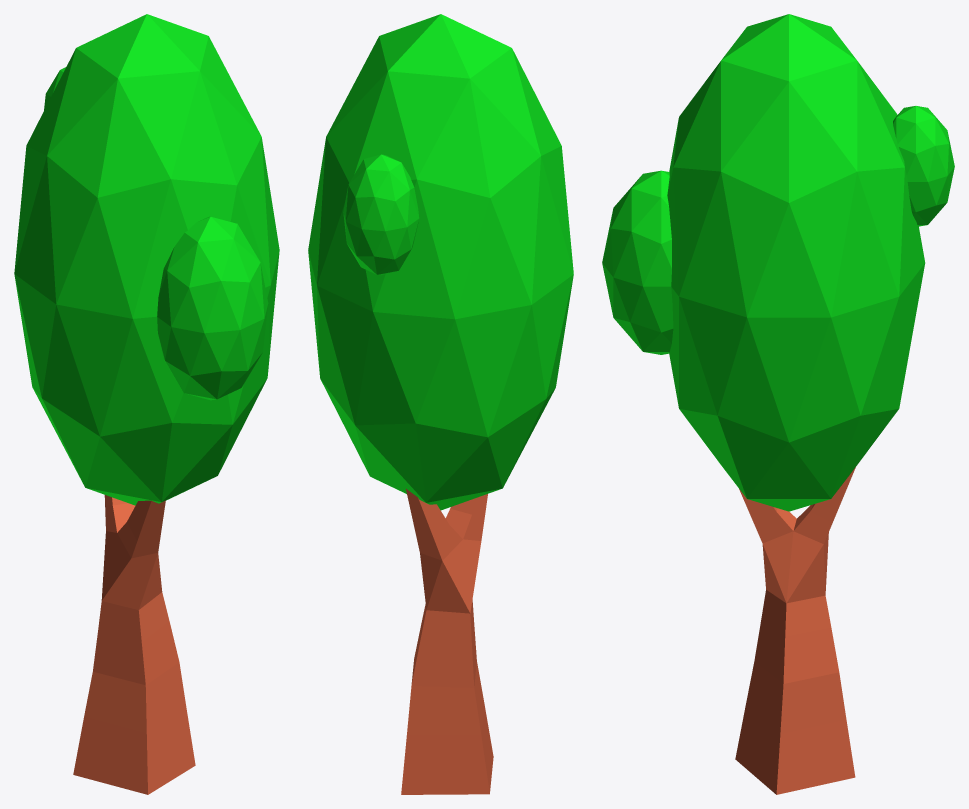
Rendered from Drzewo3.fbx.
3 renders of one model, left to right at view 1: azimuth 30°, elevation 25°; view 2: azimuth 150°, elevation 25°; view 3: azimuth 270°, elevation 25°, orthographic.
Parts seen in each view (by area): view 1: Kula ico.002; view 2: Kula ico.002; view 3: Kula ico.002.
Boxes of the visible parts, left/top/right/bottom form: Kula ico.002: left=14, top=14, right=279, bottom=794; Kula ico.002: left=308, top=14, right=573, bottom=794; Kula ico.002: left=602, top=14, right=954, bottom=794.
Size of the model in its own units: 145 by 471 by 198.
